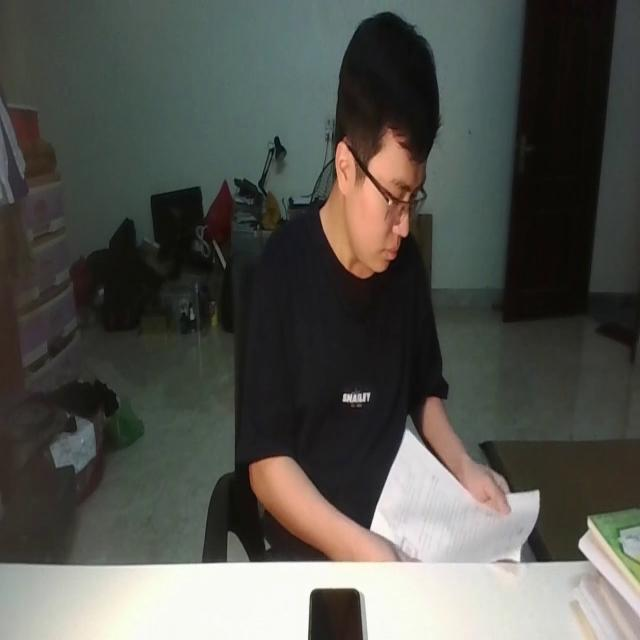book: (360, 424, 542, 564)
phone: (306, 584, 364, 640)
student: (231, 12, 512, 558)
